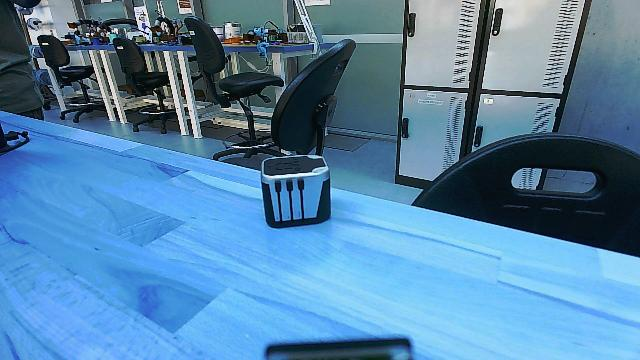adapter: (252, 148, 336, 232)
